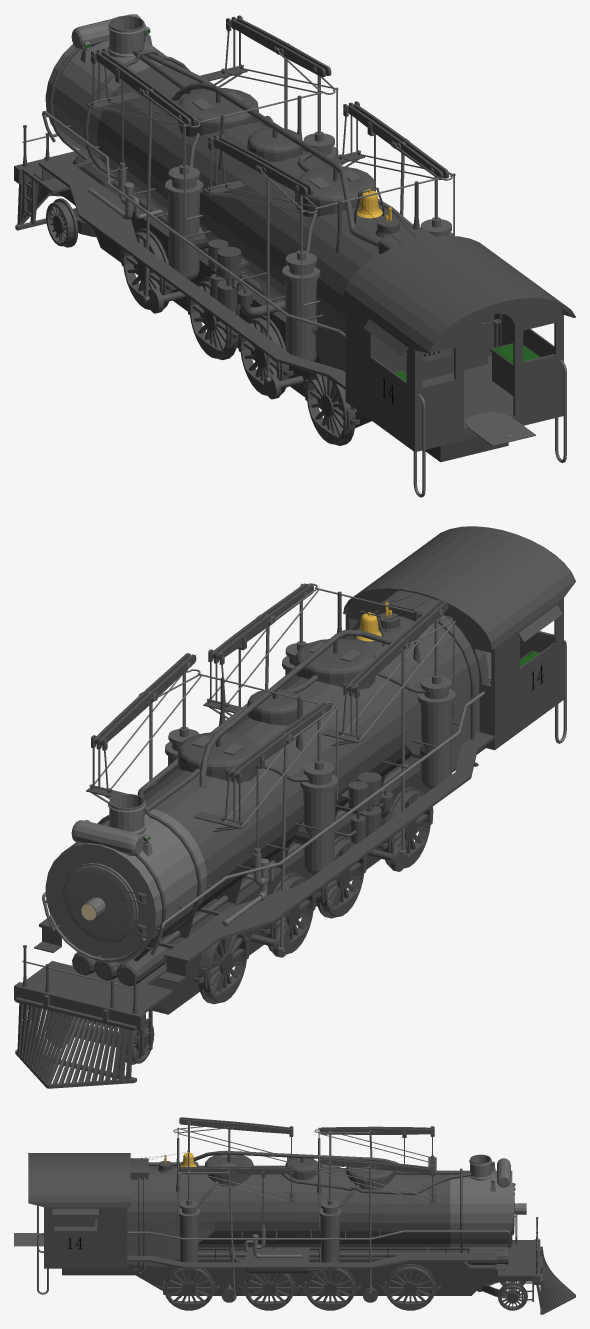
File: SmokingBilly.glb
The picture shows the model from 3 angles, top to bottom: view 1: azimuth 30°, elevation 25°; view 2: azimuth 150°, elevation 25°; view 3: azimuth 270°, elevation 25°; orthographic projection. The views are drawn at different scales.
Parts seen in each view (by area): view 1: Object_3, Object_2; view 2: Object_3, Object_2; view 3: Object_3, Object_2.
Part boxes in pixels (bbox=[...]): Object_3: bbox=[14, 15, 508, 462]; Object_2: bbox=[15, 14, 575, 497]; Object_3: bbox=[14, 583, 555, 1046]; Object_2: bbox=[15, 526, 575, 1088]; Object_3: bbox=[54, 1117, 540, 1310]; Object_2: bbox=[14, 1119, 575, 1314].
Size of the model in its own units: 20.24 by 26.57 by 83.82.
Materials: 1 (1 with a texture image).
